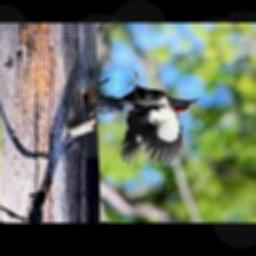Woodpecker: (91, 70, 203, 167)
